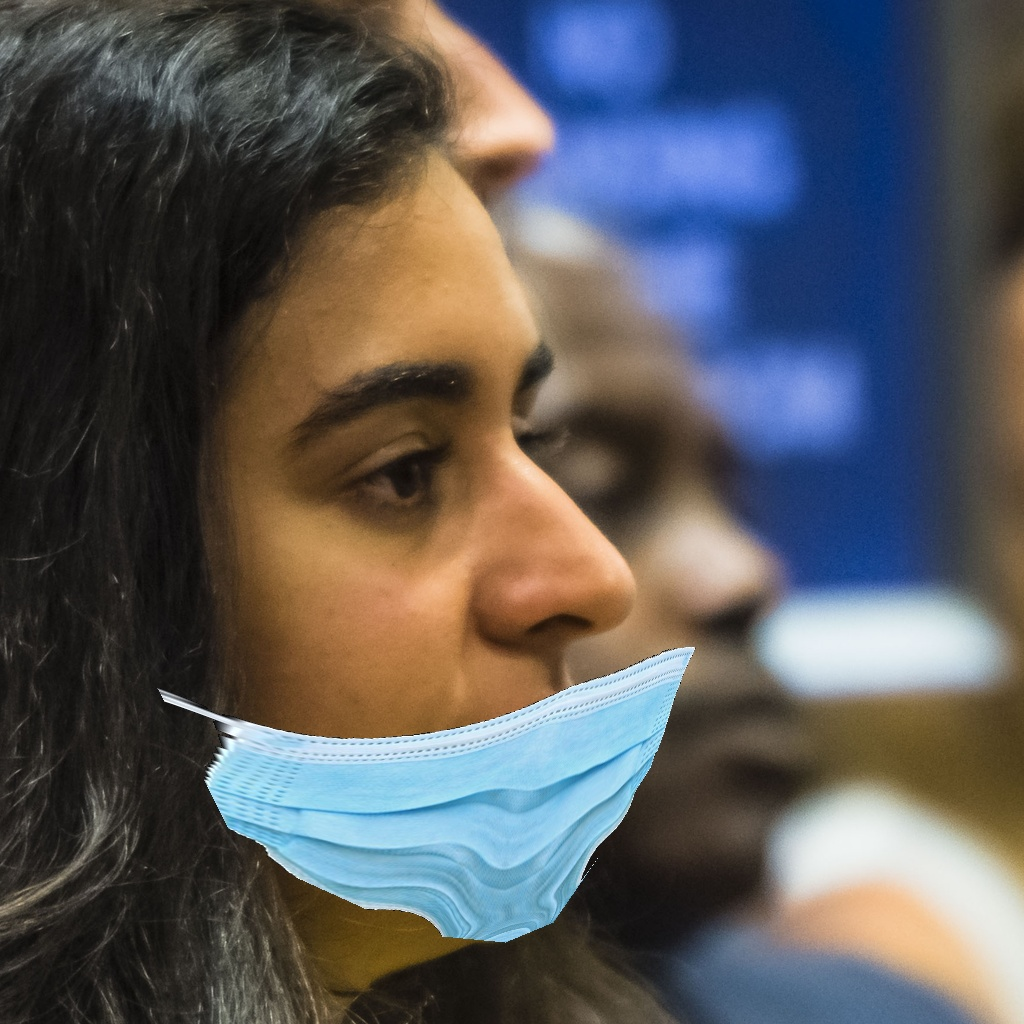mascarilla_mal_puesta: (129, 353, 714, 965)
